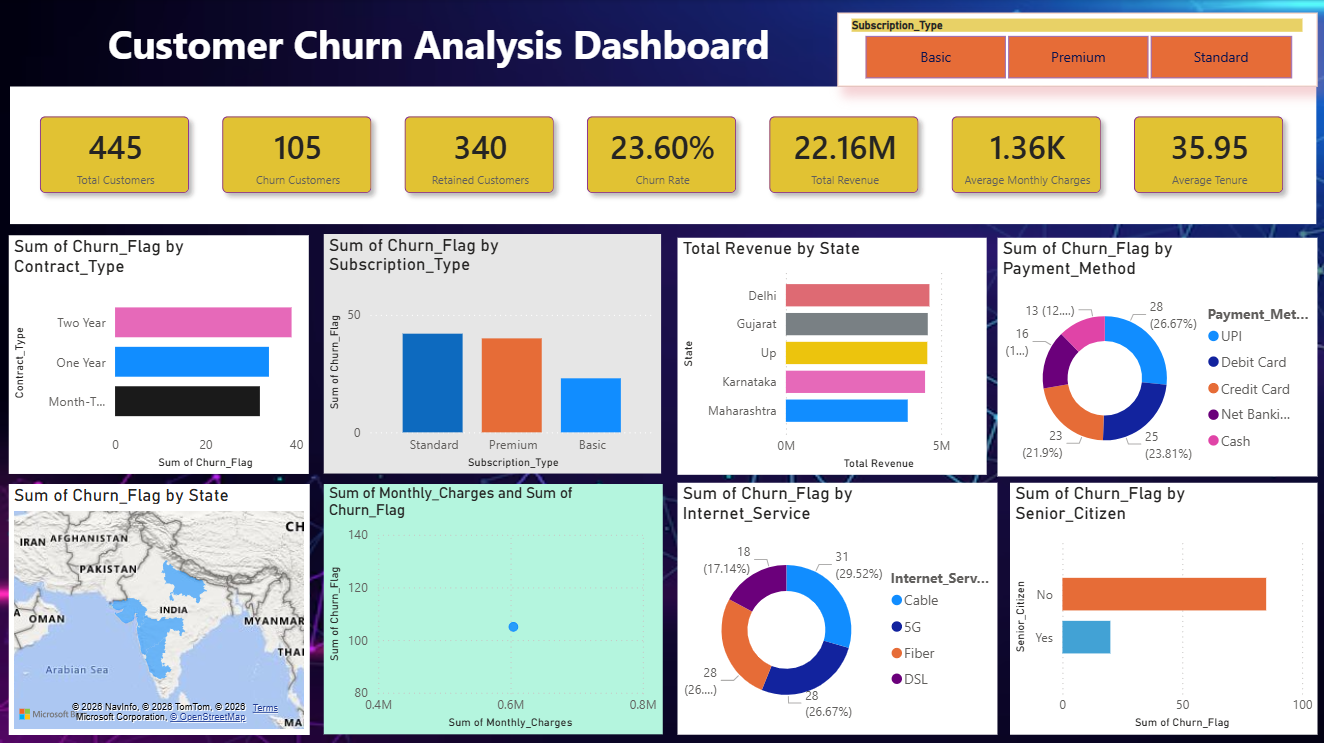

The page's visual inventory and layout, read from the dashboard file:
{"tool":"powerbi","page":{"name":"Page 1","canvas":[1280,720],"ordinal":0},"visuals":[{"type":"cardVisual","fields":{"Data":["DAX Measures.Total Customers","DAX Measures.Churn Customers","DAX Measures.Retained Customers","DAX Measures.Churn Rate","DAX Measures.Total Revenue","DAX Measures.Average Monthly Charges","DAX Measures.Average Tenure"]},"box":[9.7,84.5,1260.7,132.7],"z":0},{"type":"clusteredBarChart","fields":{"Category":["Clean_Churn_Data.Contract_Type"],"Y":["Sum(Clean_Churn_Data.Churn_Flag)"]},"box":[8.4,228,289.5,230.4],"z":1000},{"type":"columnChart","fields":{"Category":["Clean_Churn_Data.Subscription_Type"],"Y":["Sum(Clean_Churn_Data.Churn_Flag)"]},"box":[312.9,227.1,325.7,231.4],"z":2000},{"type":"filledMap","fields":{"Category":["Clean_Churn_Data.State"]},"box":[8.6,468.6,290,241.4],"z":3000},{"type":"clusteredBarChart","fields":{"Y":["DAX Measures.Total Revenue"],"Category":["Clean_Churn_Data.State"]},"box":[654.3,230,298.6,228.6],"z":4000},{"type":"donutChart","fields":{"Y":["Sum(Clean_Churn_Data.Churn_Flag)"],"Category":["Clean_Churn_Data.Internet_Service"]},"box":[654.3,467.1,308.6,242.9],"z":5000},{"type":"donutChart","fields":{"Category":["Clean_Churn_Data.Payment_Method"],"Y":["Sum(Clean_Churn_Data.Churn_Flag)"]},"box":[962.9,230,308.6,230],"z":6000},{"type":"clusteredBarChart","fields":{"Category":["Clean_Churn_Data.Senior_Citizen"],"Y":["Sum(Clean_Churn_Data.Churn_Flag)"]},"box":[974.3,467.1,297.1,242.9],"z":7000},{"type":"scatterChart","fields":{"X":["Sum(Clean_Churn_Data.Monthly_Charges)"],"Y":["Sum(Clean_Churn_Data.Churn_Flag)"]},"box":[312.9,468.6,327.1,241.4],"z":8000},{"type":"textbox","box":[10,12.9,835.7,58.6],"z":10000},{"type":"slicer","fields":{"Values":["Clean_Churn_Data.Subscription_Type"]},"box":[808.6,12.9,462.9,71.4],"z":11000}]}

Visuals, with their boxes in screenshot pixels (x1, y1, x2, y2), scaled from the page's 1280x720 canvas onto the 1324x743 screenshot:
cardVisual - DAX Measures.Total Customers x DAX Measures.Churn Customers: [x1=10, y1=87, x2=1314, y2=224]
clusteredBarChart - Clean_Churn_Data.Contract_Type x Sum(Clean_Churn_Data.Churn_Flag): [x1=9, y1=235, x2=308, y2=473]
columnChart - Clean_Churn_Data.Subscription_Type x Sum(Clean_Churn_Data.Churn_Flag): [x1=324, y1=234, x2=661, y2=473]
filledMap - Clean_Churn_Data.State: [x1=9, y1=484, x2=309, y2=733]
clusteredBarChart - DAX Measures.Total Revenue x Clean_Churn_Data.State: [x1=677, y1=237, x2=986, y2=473]
donutChart - Sum(Clean_Churn_Data.Churn_Flag) x Clean_Churn_Data.Internet_Service: [x1=677, y1=482, x2=996, y2=733]
donutChart - Clean_Churn_Data.Payment_Method x Sum(Clean_Churn_Data.Churn_Flag): [x1=996, y1=237, x2=1315, y2=475]
clusteredBarChart - Clean_Churn_Data.Senior_Citizen x Sum(Clean_Churn_Data.Churn_Flag): [x1=1008, y1=482, x2=1315, y2=733]
scatterChart - Sum(Clean_Churn_Data.Monthly_Charges) x Sum(Clean_Churn_Data.Churn_Flag): [x1=324, y1=484, x2=662, y2=733]
textbox: [x1=10, y1=13, x2=875, y2=74]
slicer - Clean_Churn_Data.Subscription_Type: [x1=836, y1=13, x2=1315, y2=87]
